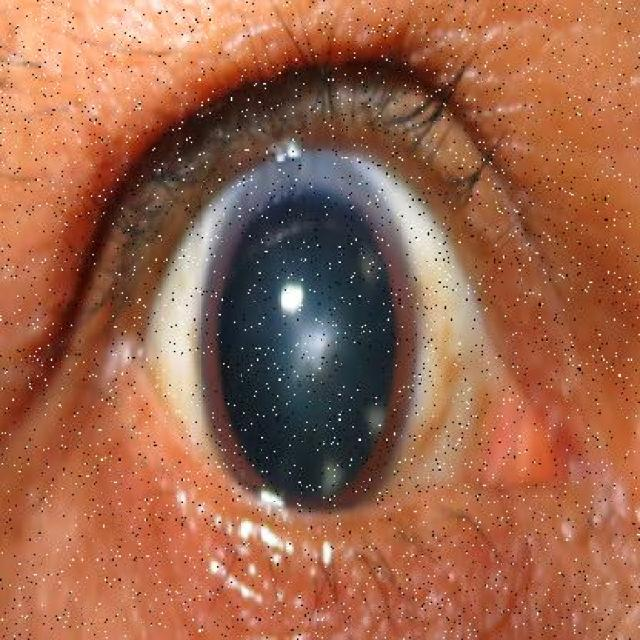Cataract: (198, 146, 428, 539)
